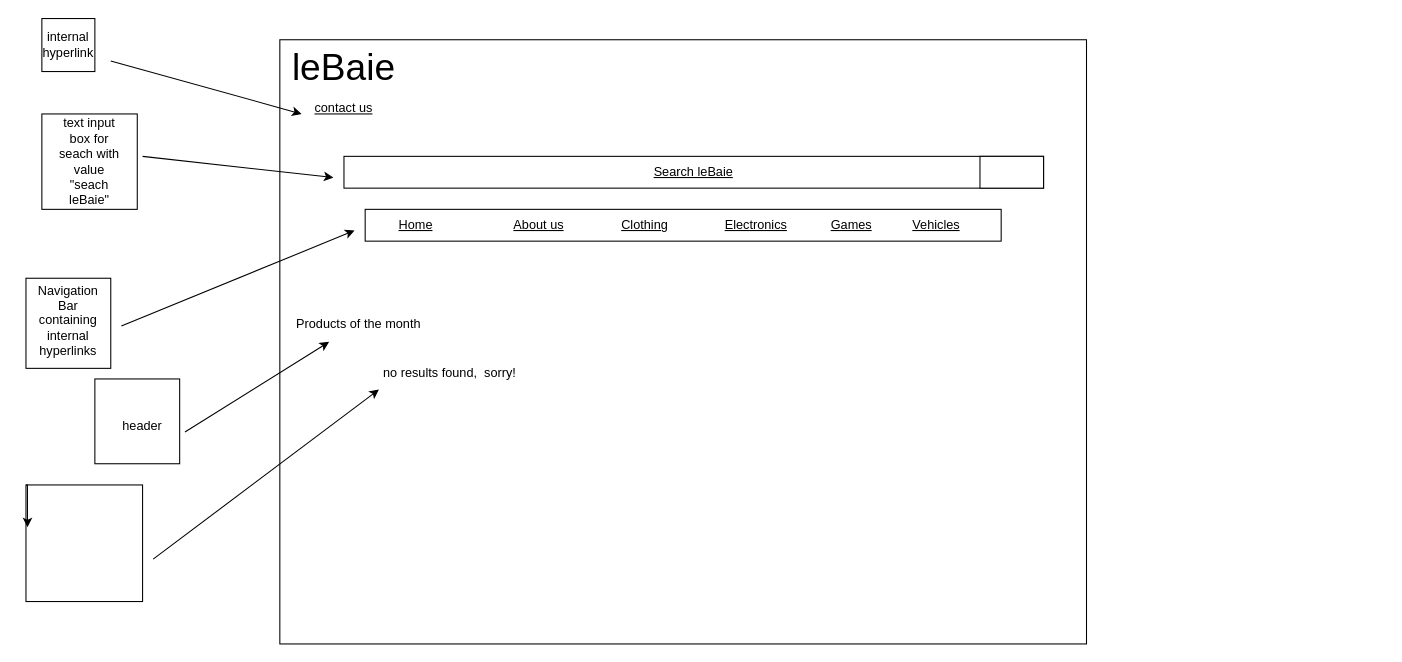
Image size: 1402x662. Some labels were removed from this diagram. The shapes that lost their labels are listed below. From the top down, each one's centre as x and y in pixels, then its label:
At point (1011, 171): "Search".
At point (84, 543): "text stating that no results were found if search returned no results".
